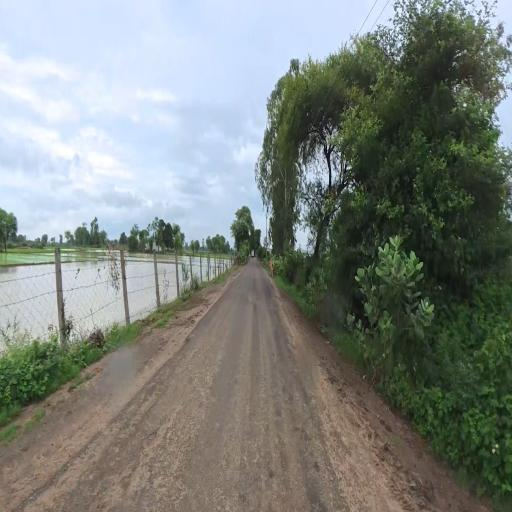ravelling: (85, 430, 198, 507)
